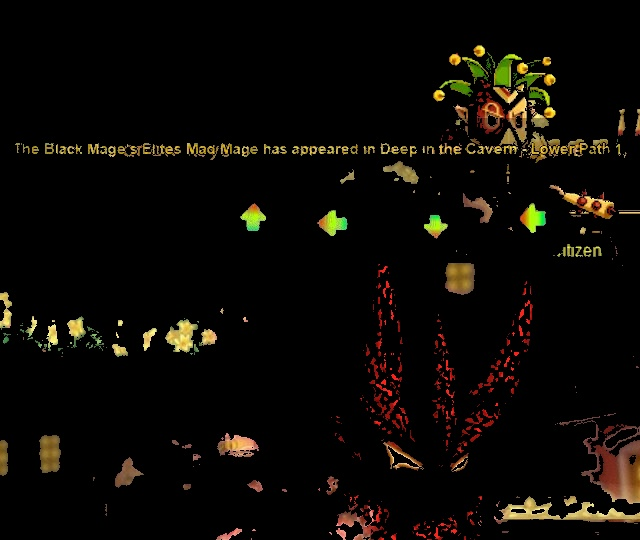down: (415, 208, 457, 248)
left: (508, 194, 559, 242), (312, 205, 355, 243)
up: (233, 197, 275, 241)
